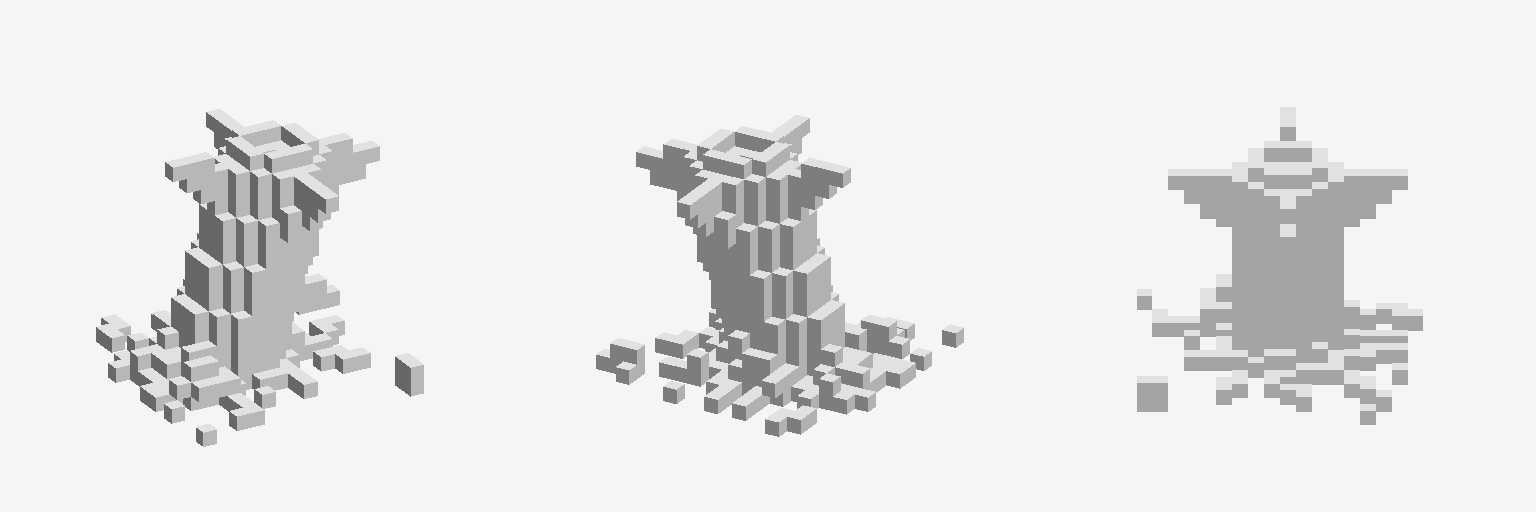
The model's file is wreck0.obj.
3 renders of one model, left to right at view 1: azimuth 30°, elevation 25°; view 2: azimuth 150°, elevation 25°; view 3: azimuth 270°, elevation 25°, orthographic.
Size of the model in its own units: 18 by 15 by 18.